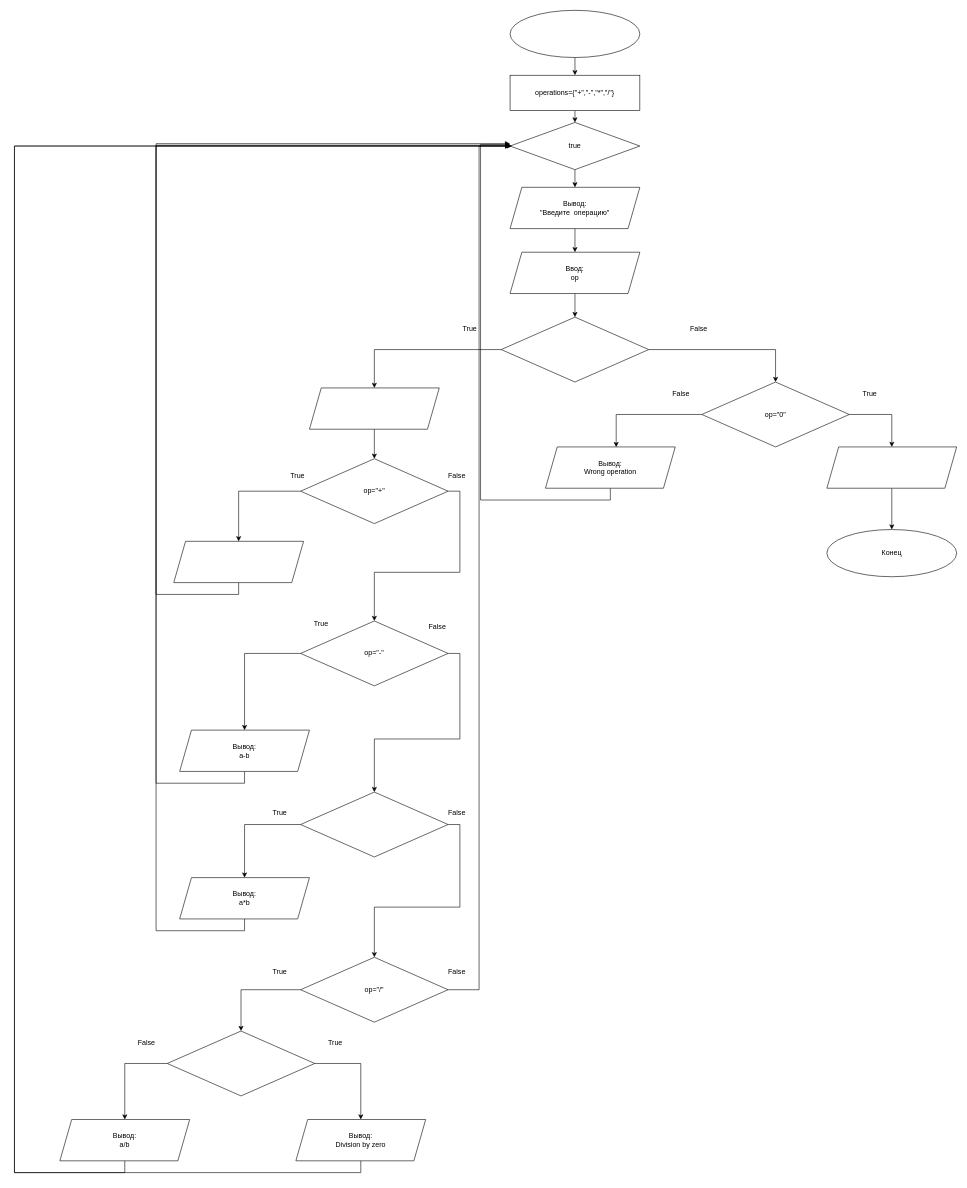
The diagram is 967 pixels wide and 1188 high, and some of its shapes have lost their labels. Here are the shapes that lost their labels. From the top down, the centre of each, then its label:
the point at 574,34: Начало
the point at 575,349: op in operations
the point at 374,408: Ввод: a,b
the point at 891,467: Вывод: Exit
the point at 238,562: Вывод: a+b
the point at 374,824: op="*"
the point at 241,1063: b=0
